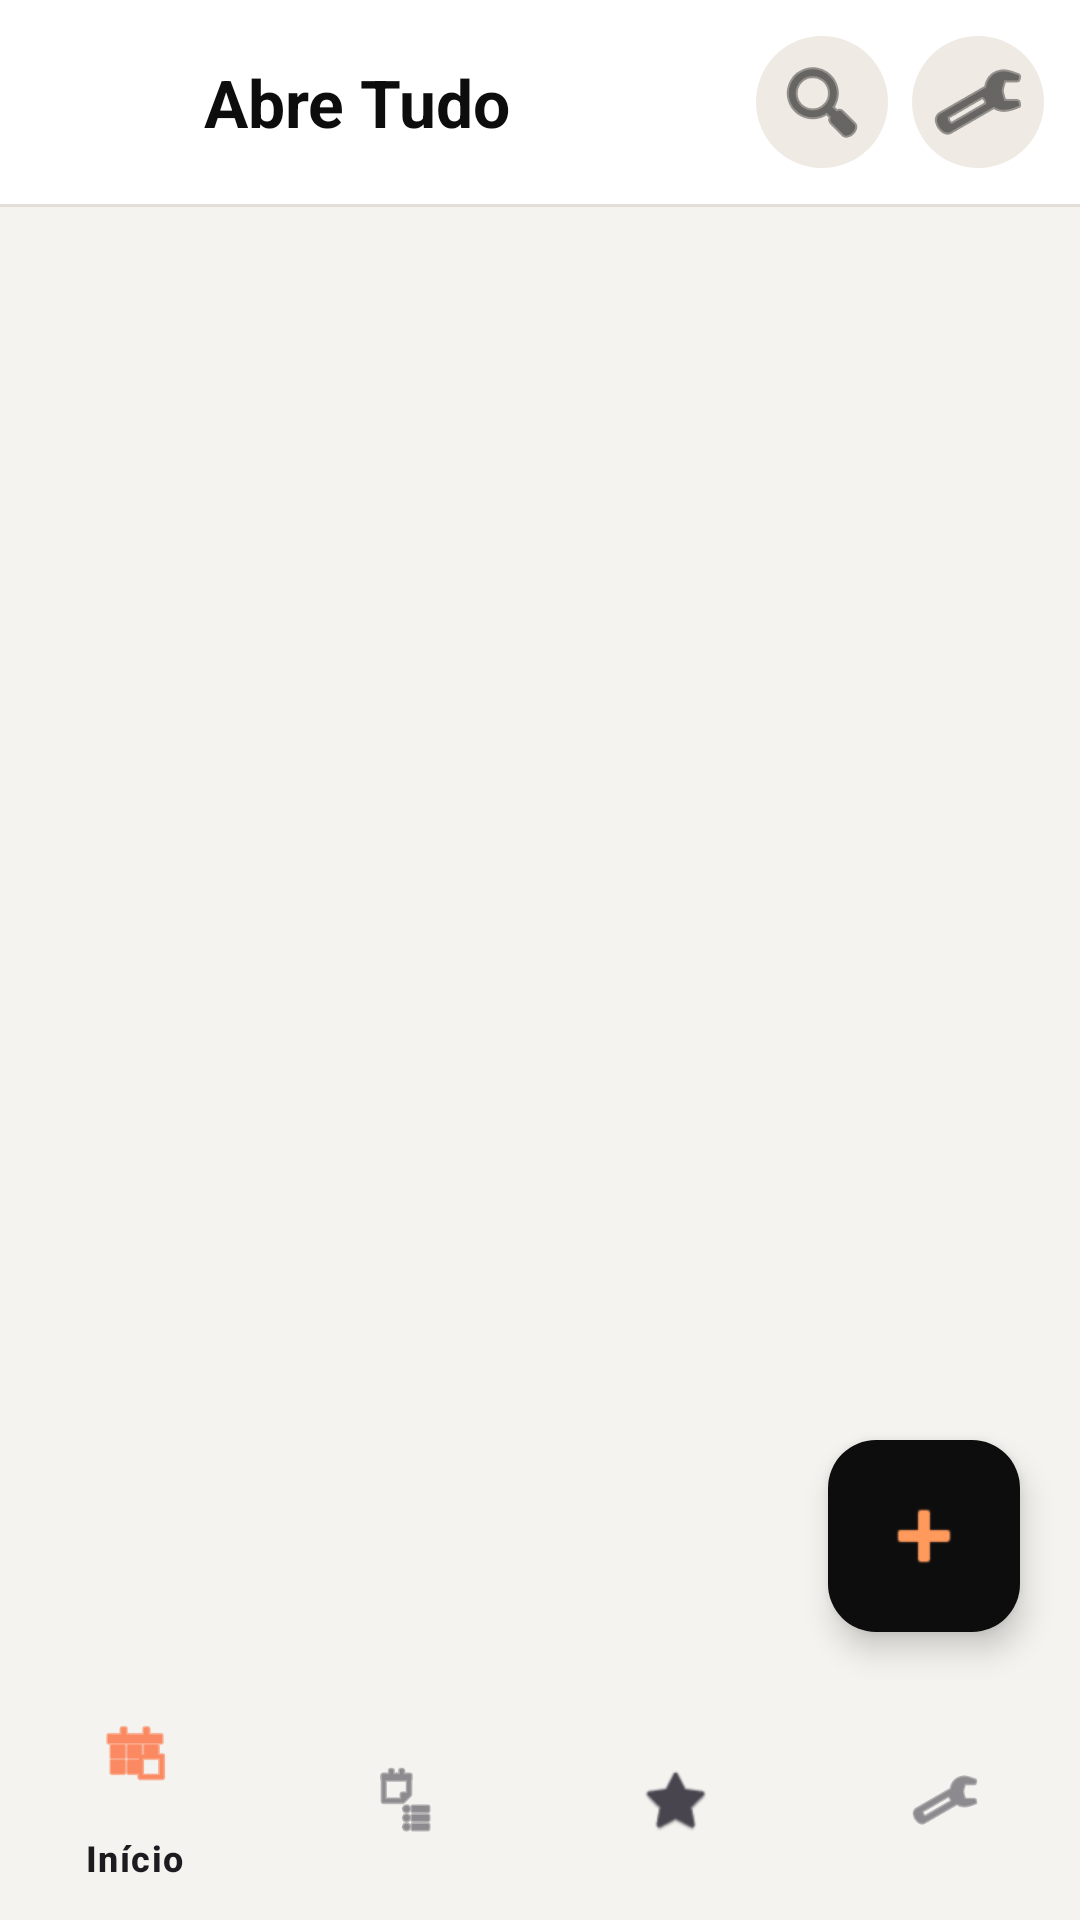

Icon click points for this 1080*1920 phone screenshot, format (x=x, y=y):
Adicionar: (x=924, y=1536)
Buscar: (x=822, y=102)
Configurações: (x=978, y=102)
